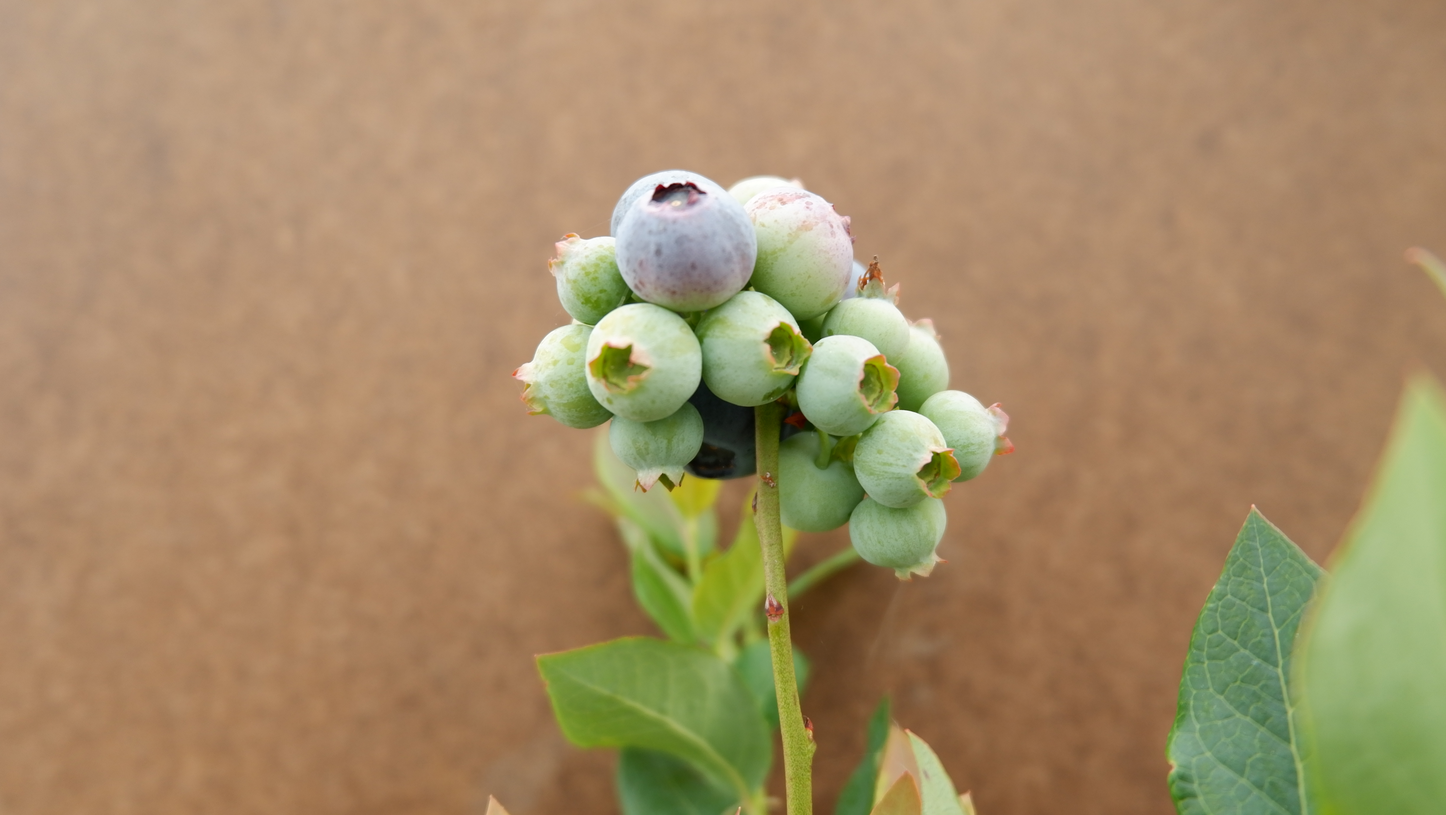Immature: (612, 181, 759, 311), (741, 186, 856, 322), (584, 302, 703, 422), (694, 291, 812, 408), (512, 324, 615, 429), (796, 335, 900, 437), (853, 410, 961, 508), (820, 260, 911, 366), (917, 390, 1015, 483), (609, 402, 704, 493), (849, 497, 949, 581), (549, 232, 640, 324), (779, 433, 864, 531), (610, 169, 729, 236), (892, 318, 949, 413), (728, 177, 802, 208), (796, 307, 834, 345)
Mature: (684, 376, 756, 480), (838, 261, 869, 303)
